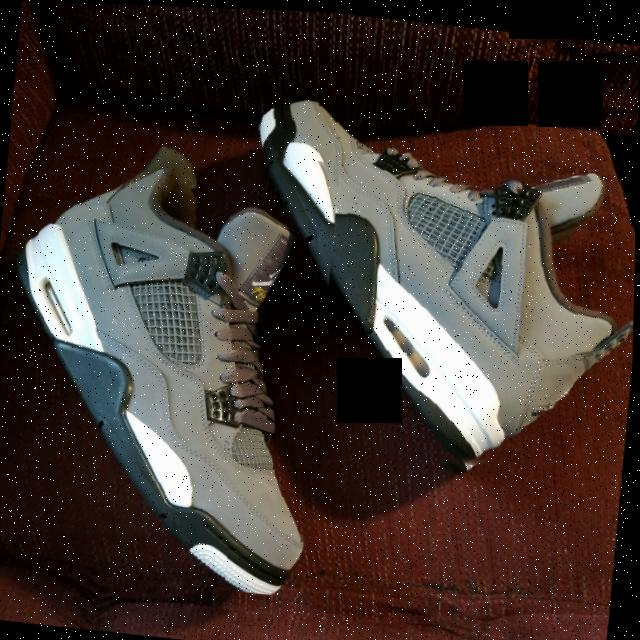shoe: (230, 92, 639, 490), (0, 124, 341, 596)
